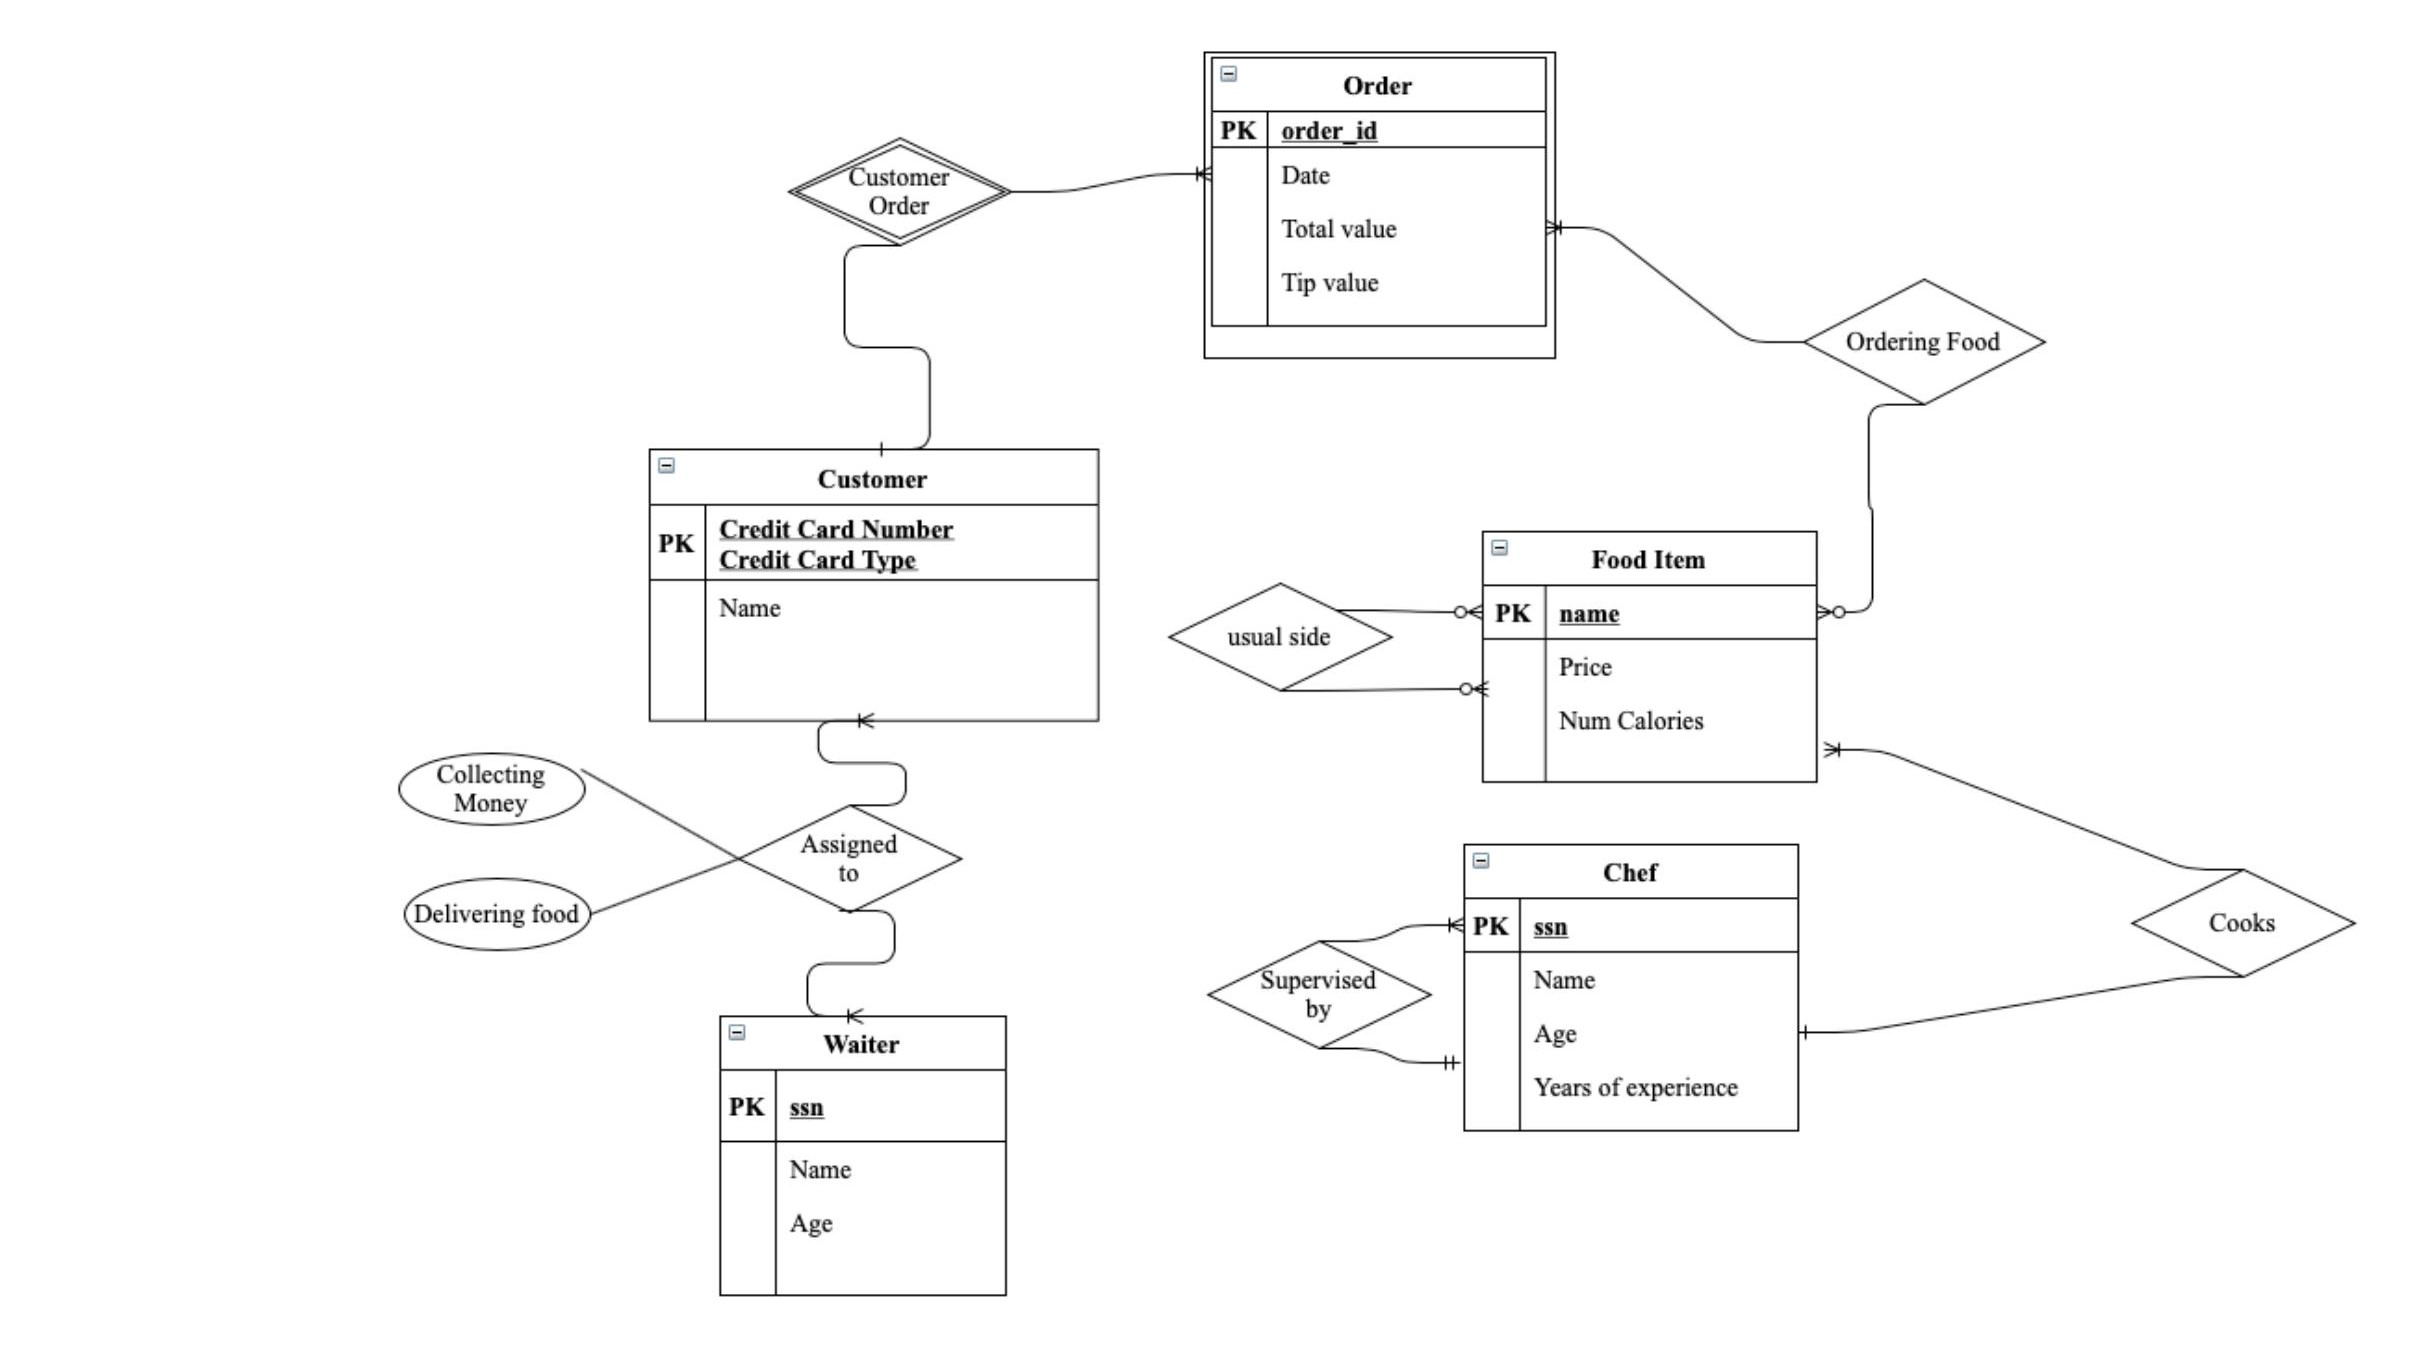Attribute: (402, 873, 596, 952), (395, 748, 586, 828)
Entity: (644, 445, 1103, 728), (1464, 841, 1804, 1137), (1208, 55, 1548, 329), (1478, 528, 1820, 787), (715, 1011, 1014, 1304)
Relationship: (1804, 277, 2049, 403), (2131, 866, 2361, 977), (1167, 581, 1392, 694), (1208, 939, 1435, 1049), (787, 136, 1012, 246), (737, 806, 962, 911)
